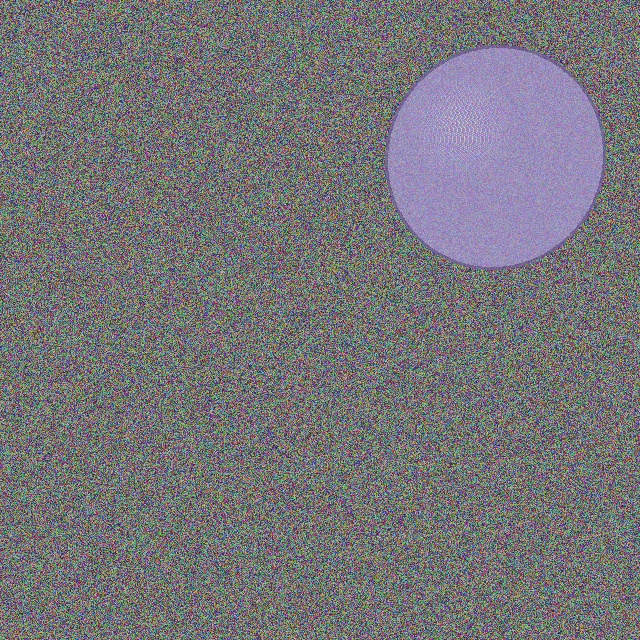lens: (386, 46, 604, 268)
